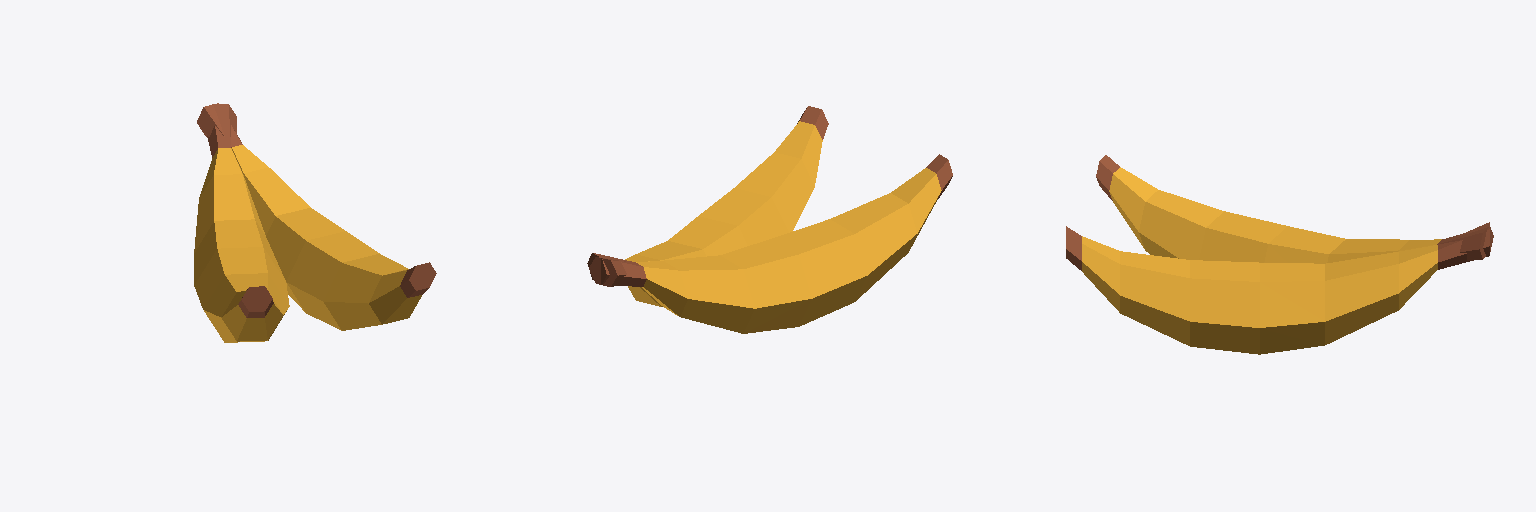
File: banana_stack2.obj
The picture shows the model from 3 angles: view 1: azimuth 30°, elevation 25°; view 2: azimuth 150°, elevation 25°; view 3: azimuth 270°, elevation 25°; orthographic projection.
Visible parts, largest first — view 1: banana, banana.002; view 2: banana.002, banana; view 3: banana, banana.002.
Part boxes in pixels (x1,y1,x2,y2): banana: (197, 103, 436, 330); banana.002: (194, 104, 289, 342); banana.002: (587, 154, 952, 333); banana: (589, 106, 828, 306); banana: (1066, 222, 1489, 354); banana.002: (1096, 155, 1493, 263).
Size of the model in its own units: 0.3435 by 0.1958 by 0.6361.